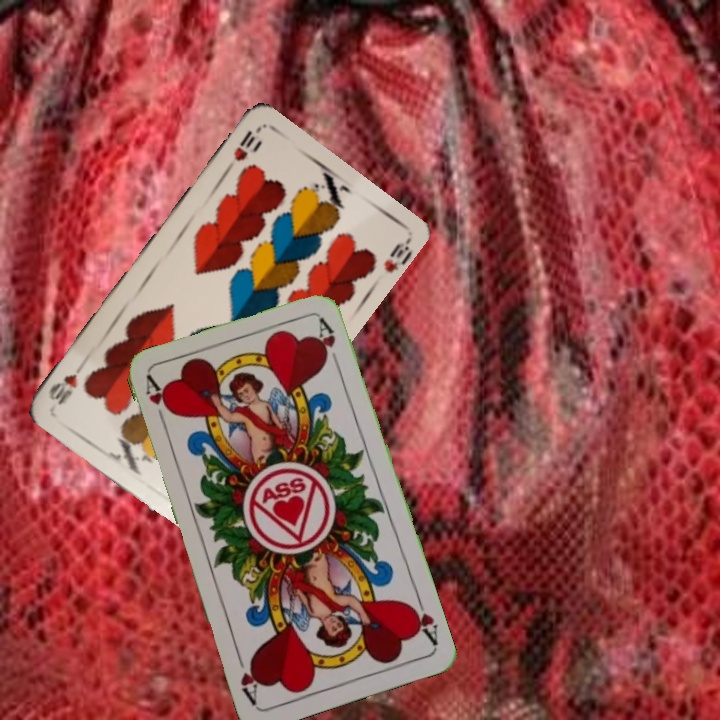H10: (221, 125, 258, 176)
HA: (404, 591, 441, 648), (141, 373, 174, 431)
